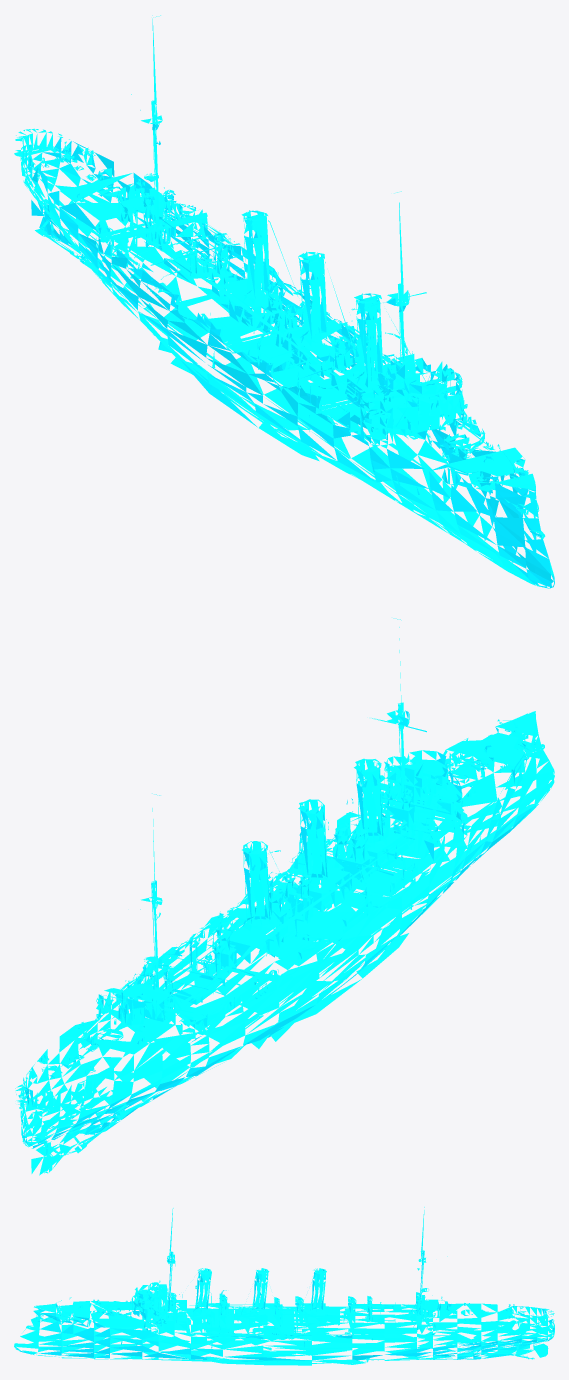
The model's file is Bogatyr.glb.
3 views of the same model, one above another, from view 1: azimuth 30°, elevation 25°; view 2: azimuth 150°, elevation 25°; view 3: azimuth 270°, elevation 25° (orthographic). The views are drawn at different scales.
Bounding box in the file's own units: 1.12 × 2.79 × 8.94.
